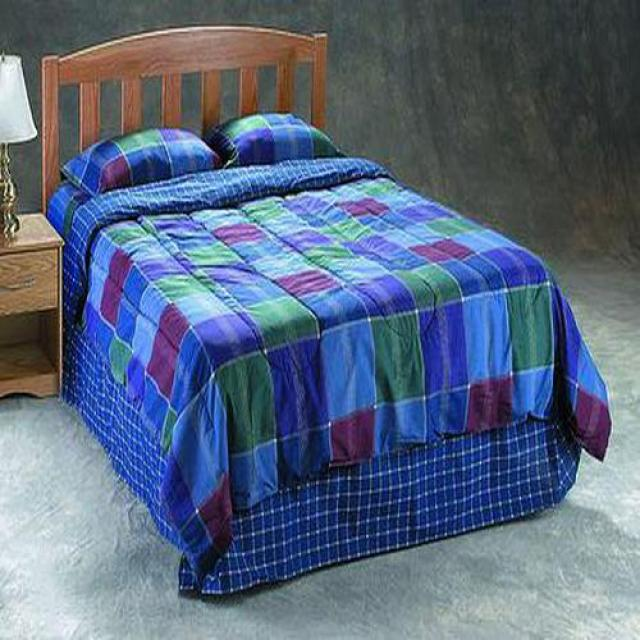bed: (40, 27, 613, 602)
